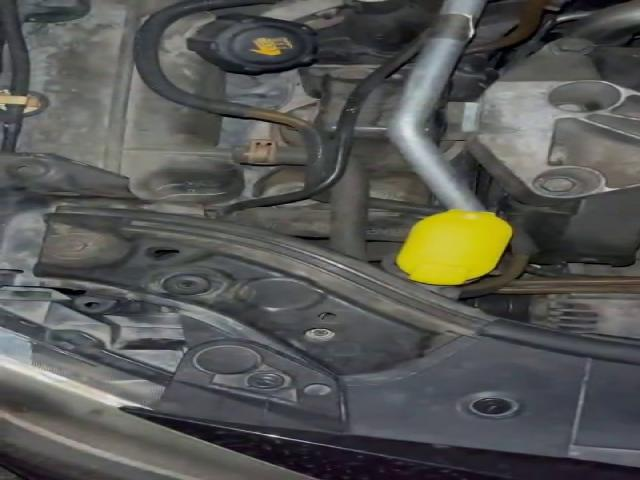antifreeze_tank: (18, 0, 245, 213), (159, 12, 316, 104)
